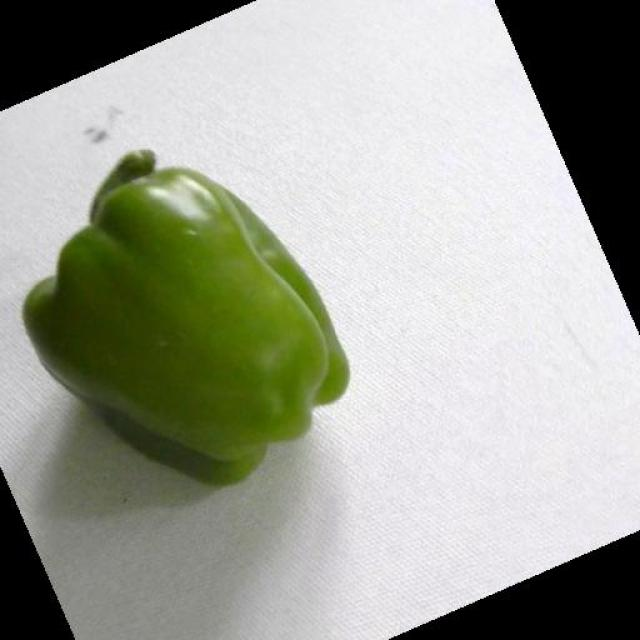Fresh_Capsicum: (54, 152, 360, 473)
